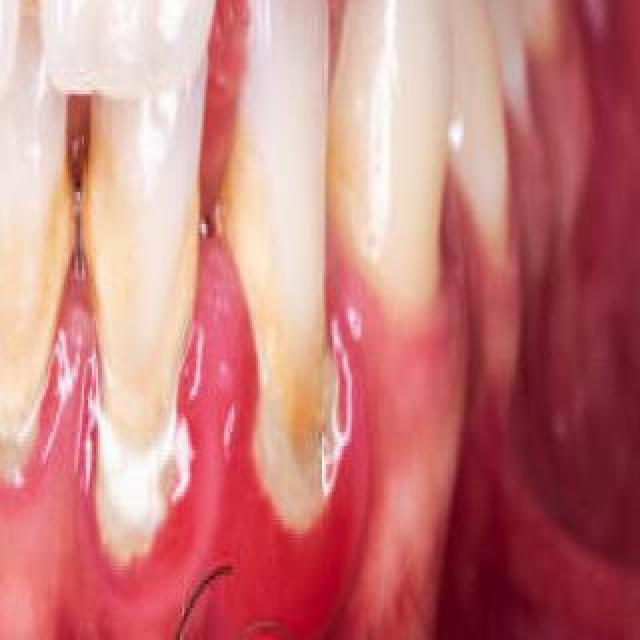calculus: (255, 265, 357, 531), (0, 156, 68, 486), (92, 392, 194, 584)
maligned: (340, 0, 476, 316)
spacing: (39, 19, 123, 337), (186, 0, 266, 308), (307, 1, 373, 281), (0, 0, 62, 54), (202, 0, 260, 18)
